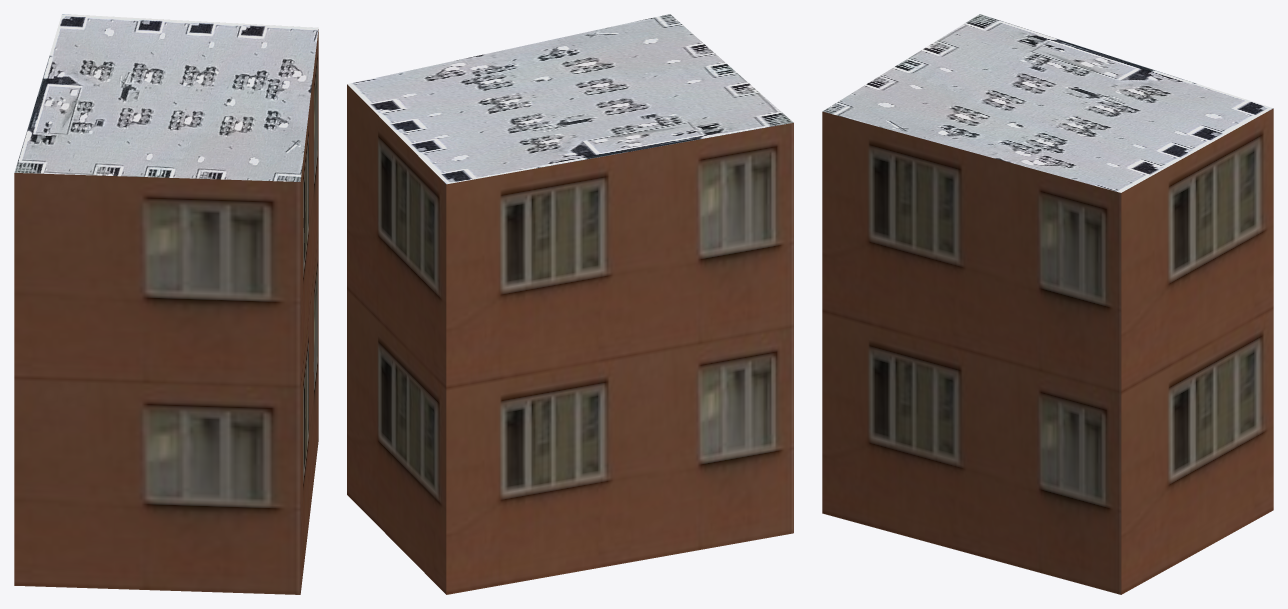
File: ResTex__4901.fbx
The picture shows the model from 3 angles, left to right: view 1: azimuth 30°, elevation 25°; view 2: azimuth 150°, elevation 25°; view 3: azimuth 270°, elevation 25°; orthographic projection. The views are drawn at different scales.
Visible parts, largest first — view 1: CityEngineMaterial_20_m, CityEngineMaterial_m; view 2: CityEngineMaterial_20_m, CityEngineMaterial_m; view 3: CityEngineMaterial_20_m, CityEngineMaterial_m.
Part boxes in pixels (box(x1,y1,x2,y2)): CityEngineMaterial_20_m: box(14, 29, 318, 594); CityEngineMaterial_m: box(14, 14, 318, 181); CityEngineMaterial_20_m: box(347, 84, 793, 594); CityEngineMaterial_m: box(347, 14, 793, 184); CityEngineMaterial_20_m: box(822, 108, 1273, 594); CityEngineMaterial_m: box(822, 14, 1273, 192).
Bounding box in the file's own units: 5.73 × 6 × 6.11.
2 materials, 2 textured.
